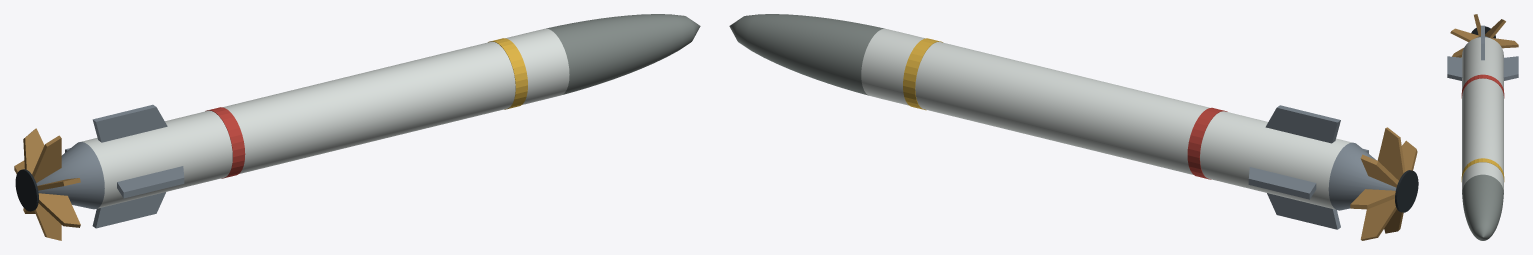
The model's file is f21_torpedo.glb.
3 renders of one model, left to right at view 1: azimuth 30°, elevation 25°; view 2: azimuth 150°, elevation 25°; view 3: azimuth 270°, elevation 25°, orthographic. The views are drawn at different scales.
Visible parts, largest first — view 1: f21_torpedo; view 2: f21_torpedo; view 3: f21_torpedo.
Part boxes in pixels (<box>): f21_torpedo: <box>14,14,700,240</box>; f21_torpedo: <box>729,14,1418,240</box>; f21_torpedo: <box>1447,14,1518,240</box>.
Size of the model in its own units: 10 by 1.51 by 1.51.
